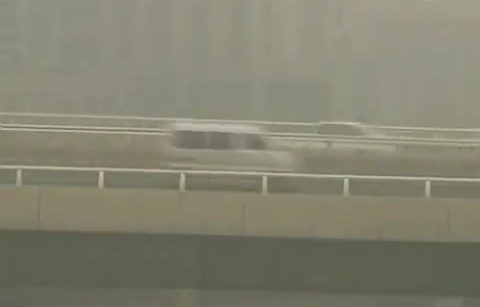car: (165, 120, 299, 190), (294, 120, 397, 160)
